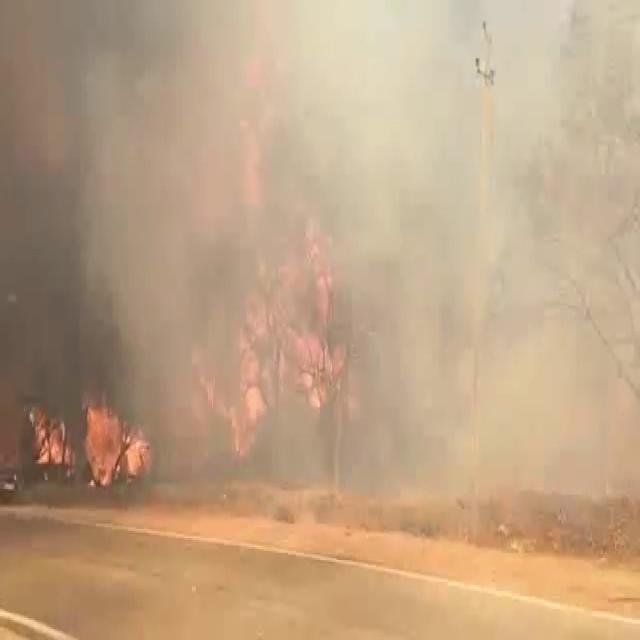Fire: (242, 252, 360, 459), (85, 388, 149, 503), (30, 398, 74, 486)
Smoke: (380, 70, 588, 596), (0, 0, 350, 216), (343, 0, 640, 235), (516, 153, 640, 532)
